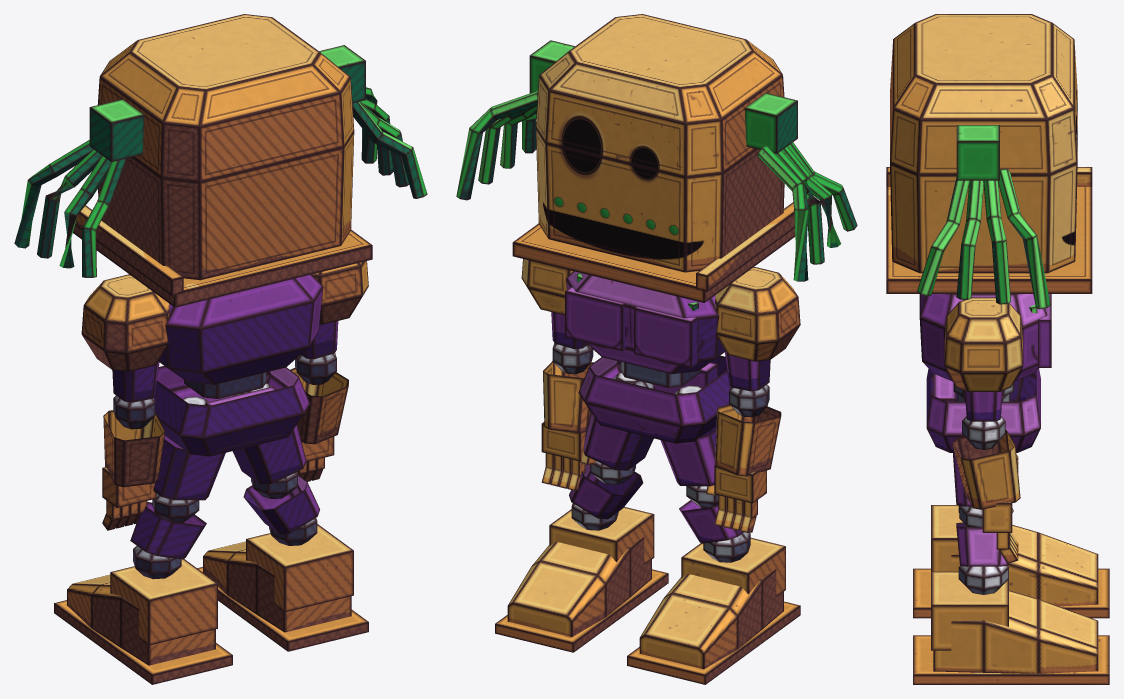
File: robot_static.obj
3 views of the same model, side by side, from view 1: azimuth 30°, elevation 25°; view 2: azimuth 150°, elevation 25°; view 3: azimuth 270°, elevation 25° (orthographic). The views are drawn at different scales.
Parts seen in each view (by area): view 1: RobotStatic; view 2: RobotStatic; view 3: RobotStatic.
Boxes of the visible parts, x1,y1,x2,y2 form: RobotStatic: [14, 14, 427, 684]; RobotStatic: [456, 14, 857, 684]; RobotStatic: [886, 14, 1109, 684].
Size of the model in its own units: 0.9084 by 1.4 by 0.488.
1 material, 1 textured.
